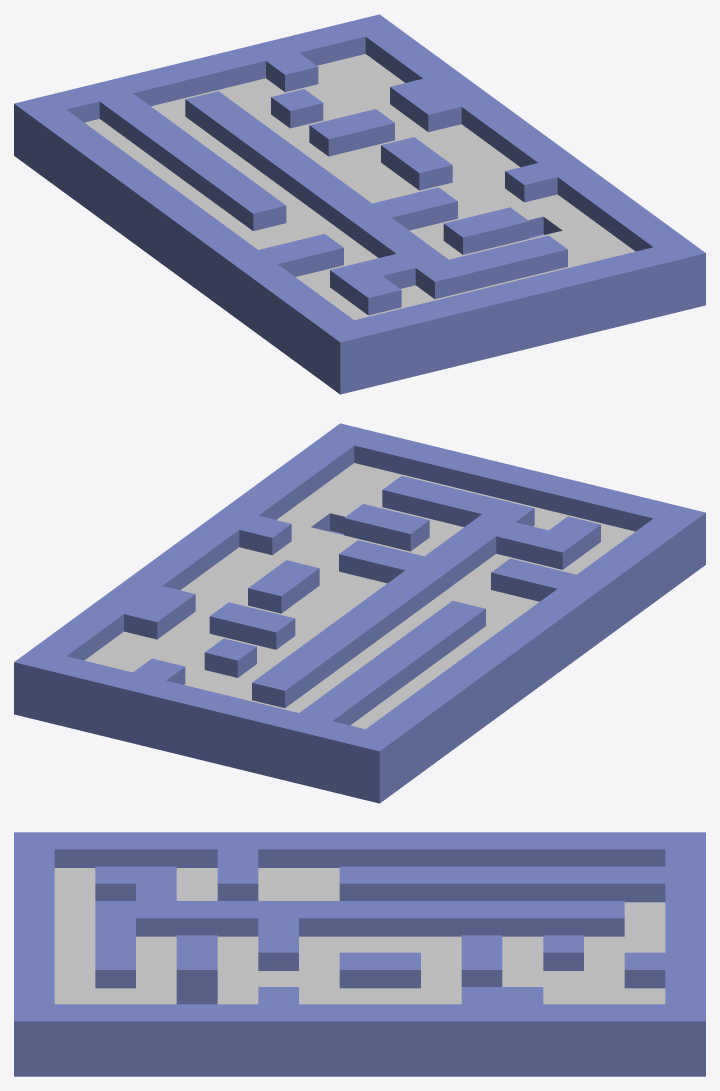
Rendered from 098_platform.fbx.
The picture shows the model from 3 angles, top to bottom: view 1: azimuth 30°, elevation 25°; view 2: azimuth 150°, elevation 25°; view 3: azimuth 270°, elevation 25°; orthographic projection. The views are drawn at different scales.
Parts seen in each view (by area): view 1: Grid; view 2: Grid; view 3: Grid.
Part boxes in pixels (left/top/right/bottom): Grid: left=14, top=14, right=705, bottom=394; Grid: left=14, top=423, right=705, bottom=803; Grid: left=14, top=832, right=705, bottom=1076.
Size of the model in its own units: 1100 by 150 by 1700.
